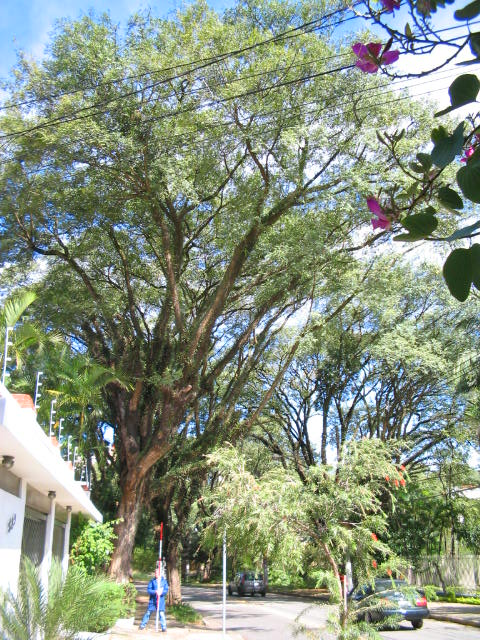crown: (4, 5, 454, 339)
stem: (89, 476, 149, 622)
stick: (149, 522, 169, 632)
tree: (2, 1, 454, 622)
